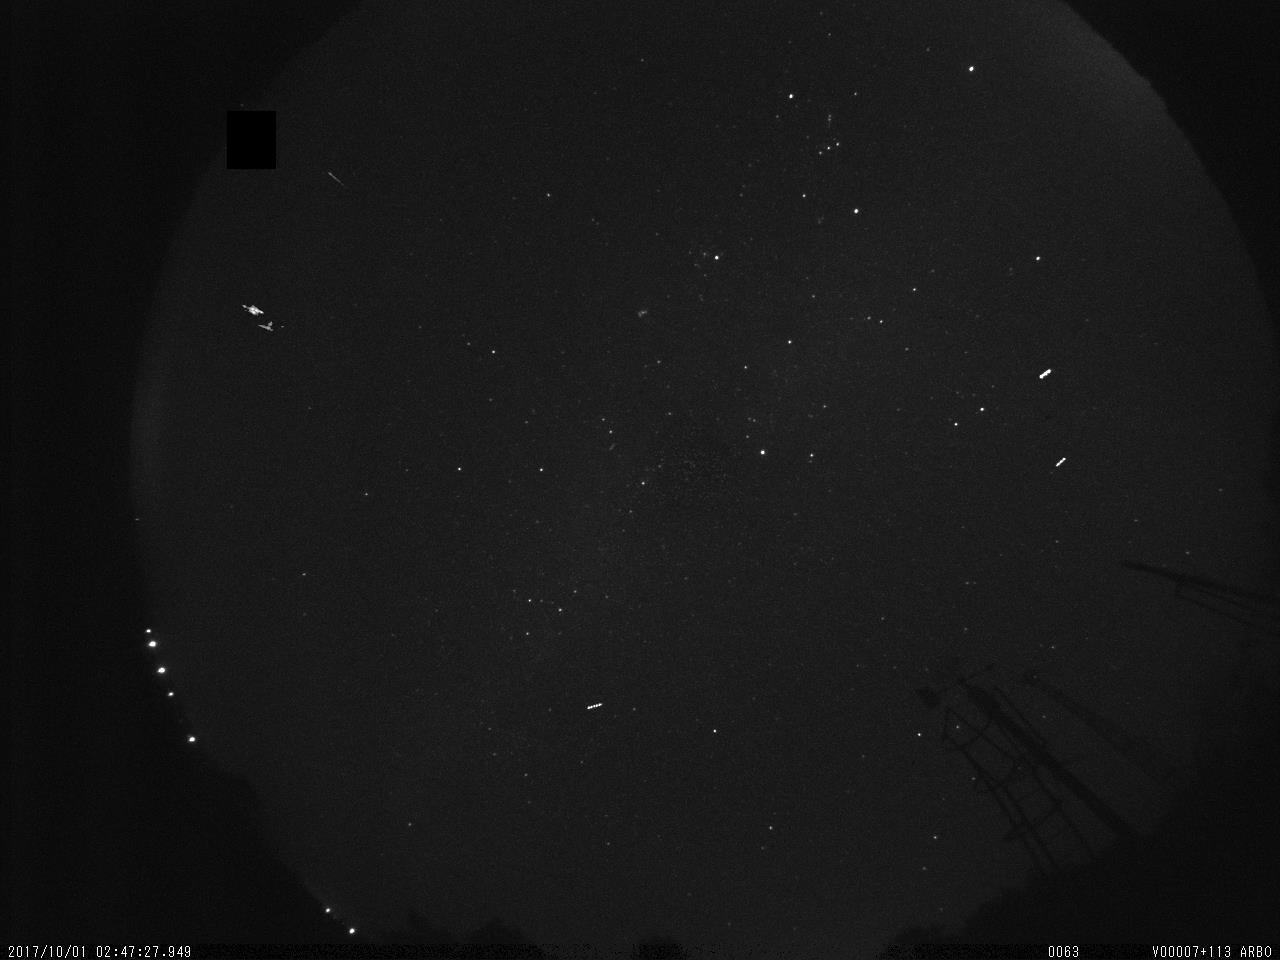TLE: (237, 302, 293, 337)
